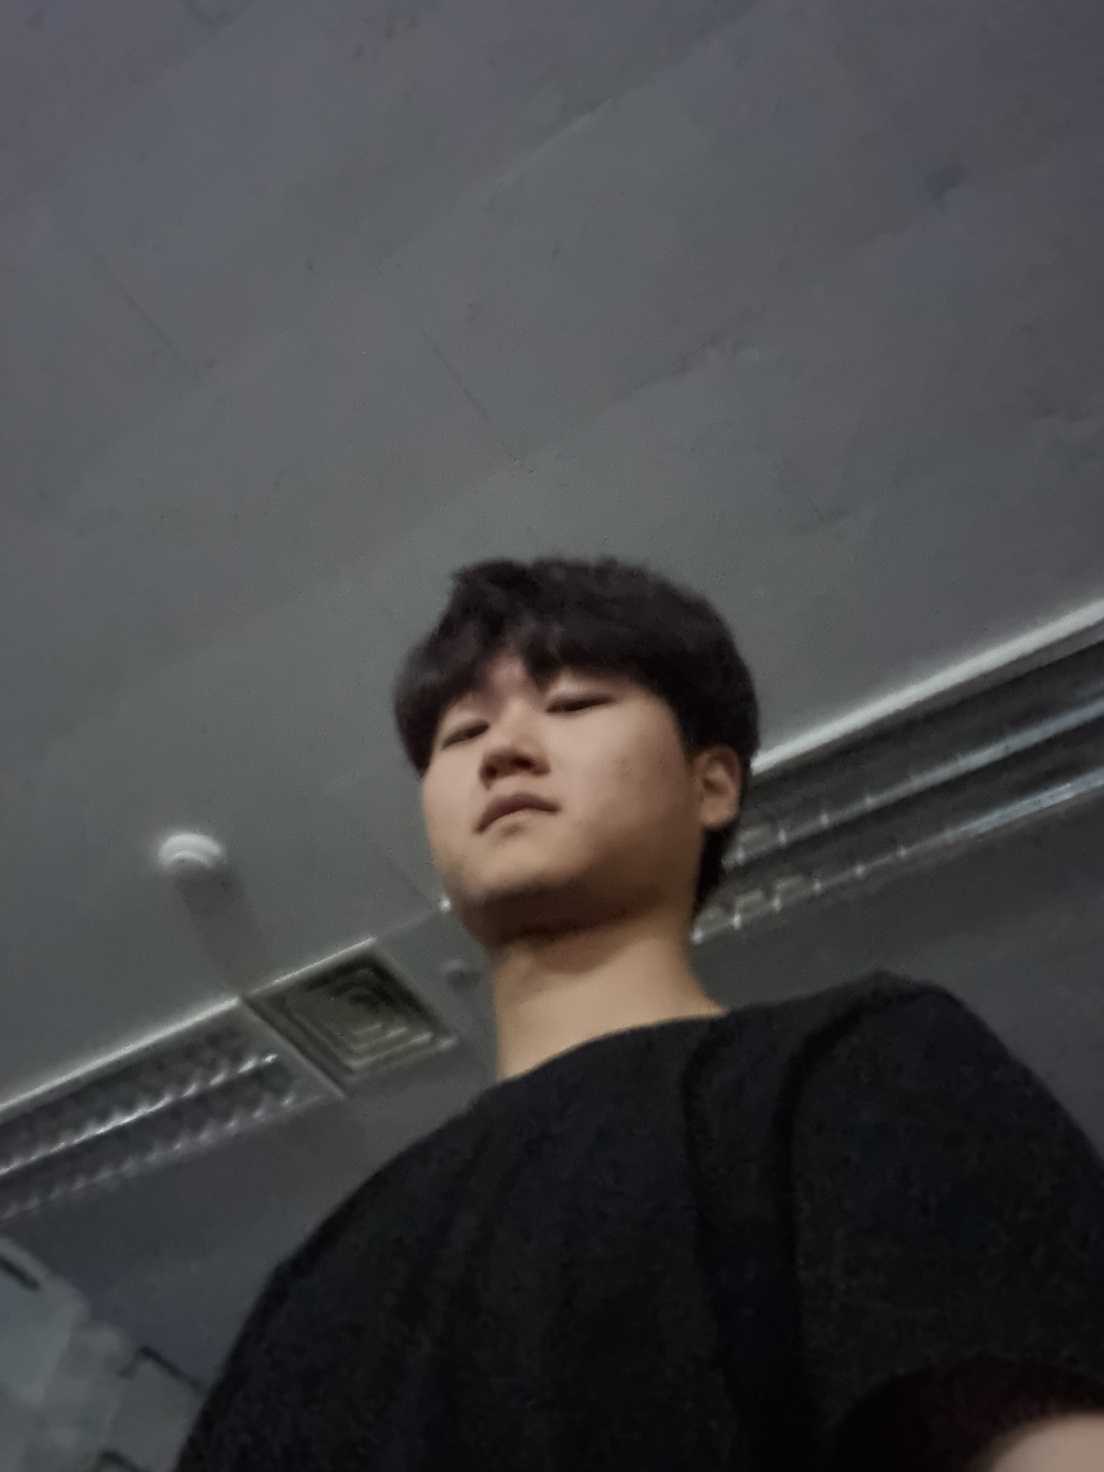Non-Helmet: (350, 535, 794, 937)
